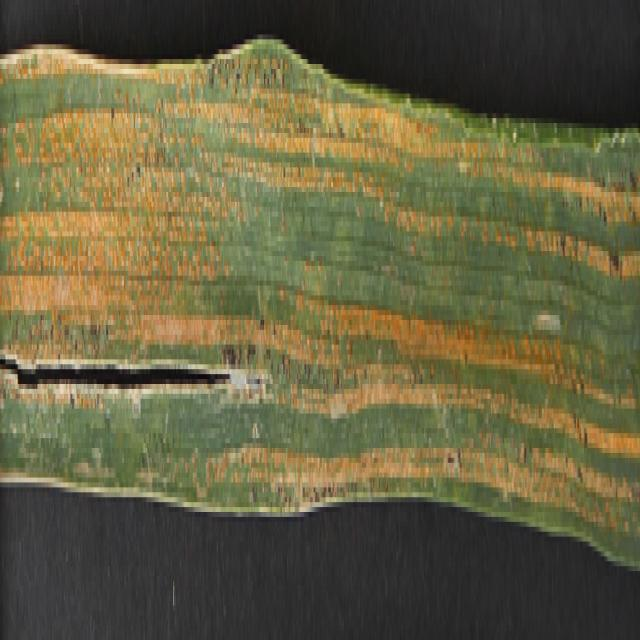leaf rust: (0, 14, 640, 551)
